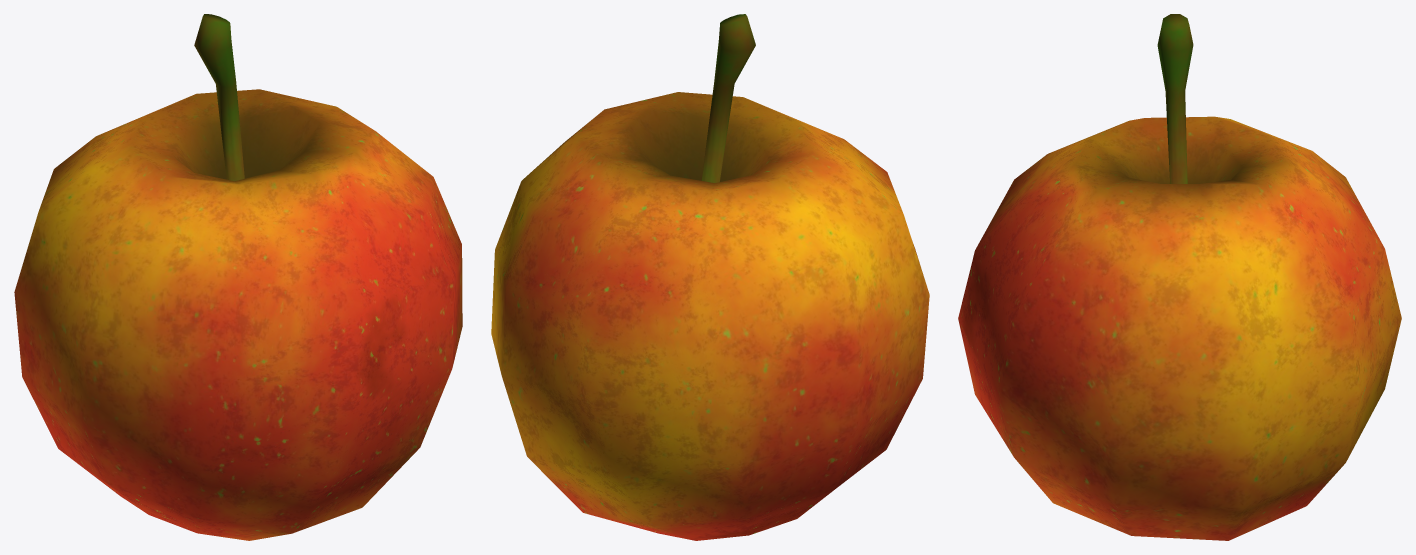
File: Elma.fbx
3 views of the same model, side by side, from view 1: azimuth 30°, elevation 25°; view 2: azimuth 150°, elevation 25°; view 3: azimuth 270°, elevation 25° (orthographic). The views are drawn at different scales.
Visible parts, largest first — view 1: Elma; view 2: Elma; view 3: Elma.
Boxes of the visible parts, x1,y1,x2,y2 form: Elma: (14, 14, 462, 540); Elma: (491, 14, 929, 540); Elma: (958, 14, 1401, 540).
Bounding box in the file's own units: 3.9 × 4.98 × 4.14.
